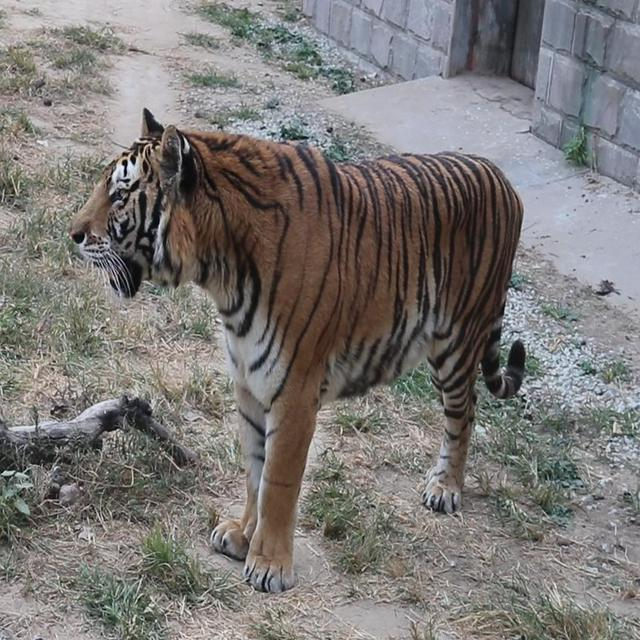tiger: (67, 106, 526, 593), (0, 391, 200, 475)
